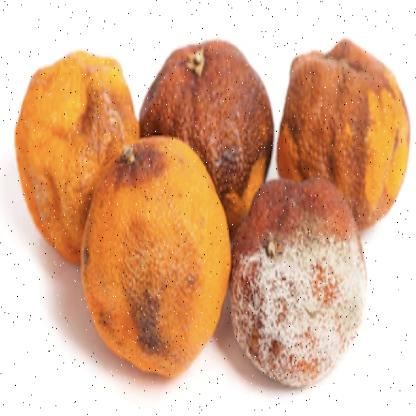rotten: (15, 39, 412, 399)
